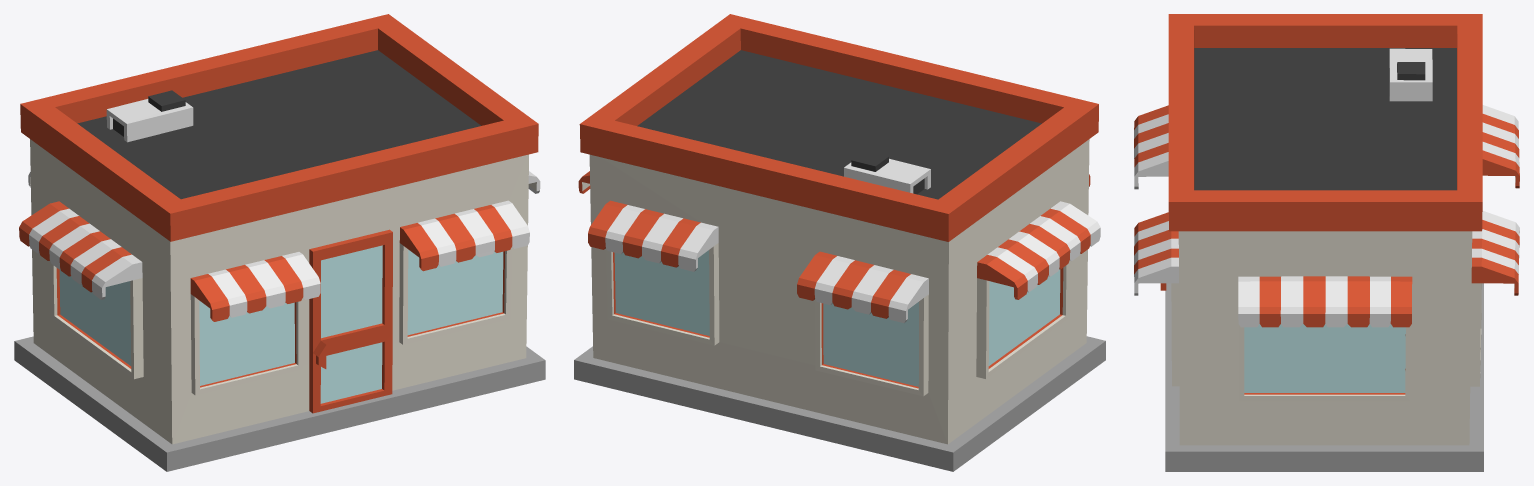
File: Shop.glb
3 renders of one model, left to right at view 1: azimuth 30°, elevation 25°; view 2: azimuth 150°, elevation 25°; view 3: azimuth 270°, elevation 25°, orthographic. The views are drawn at different scales.
Parts seen in each view (by area): view 1: Cube.006; view 2: Cube.006; view 3: Cube.006.
Part boxes in pixels (box(x1,y1,x2,y2)): Cube.006: box(14, 14, 545, 471); Cube.006: box(574, 14, 1105, 471); Cube.006: box(1134, 14, 1519, 471).
Bounding box in the file's own units: 7.74 × 4.36 × 5.63.
Materials: 1 (1 with a texture image).
